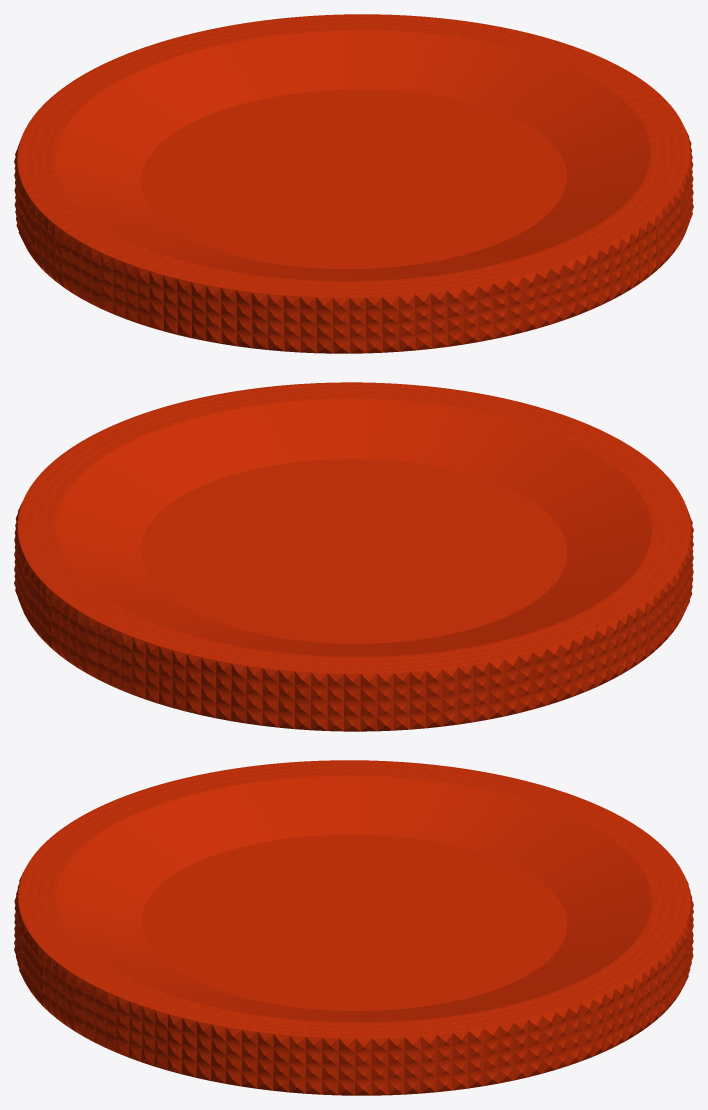
File: checker.glb
3 views of the same model, one above another, from view 1: azimuth 30°, elevation 25°; view 2: azimuth 150°, elevation 25°; view 3: azimuth 270°, elevation 25° (orthographic).
Visible parts, largest first — view 1: checker; view 2: checker; view 3: checker.
Boxes of the visible parts, <box> form: checker: <box>14,14,693,353</box>; checker: <box>14,382,693,731</box>; checker: <box>14,760,693,1095</box>.
Bounding box in the file's own units: 1.51 × 0.1617 × 1.51.
